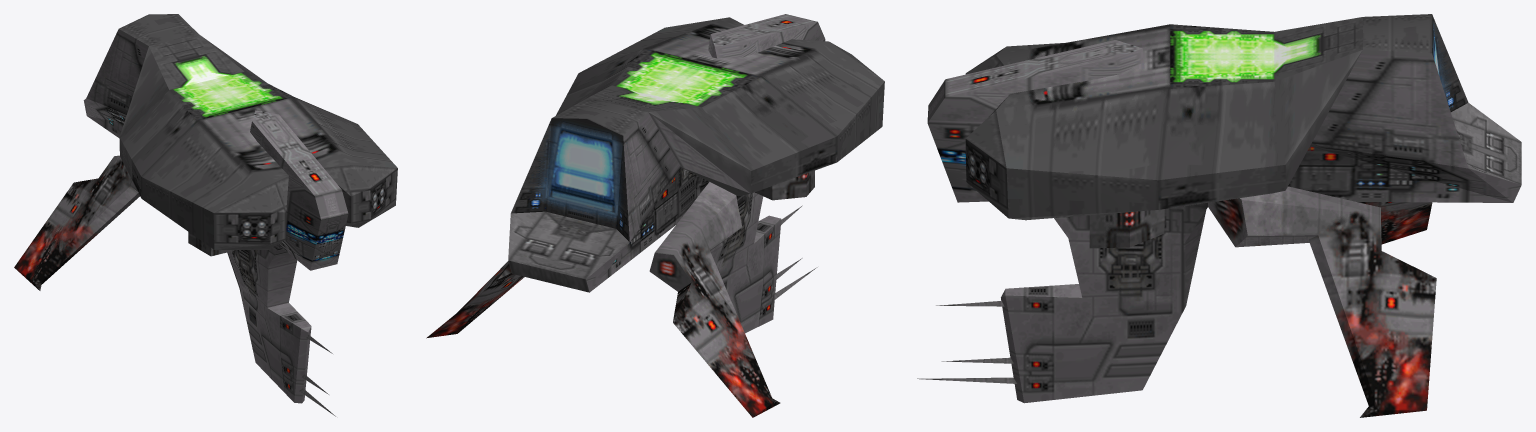
File: hive1.obj
3 views of the same model, side by side, from view 1: azimuth 30°, elevation 25°; view 2: azimuth 150°, elevation 25°; view 3: azimuth 270°, elevation 25° (orthographic). The views are drawn at different scales.
Parts seen in each view (by area): view 1: SHV_belly, SHV_fnt_core_sides, SHV_rudder_sides, SHV_body_face, SHV_fins_sides, SHV_hatch, SHV_body_rear_sides; view 2: SHV_belly, SHV_fins_sides, SHV_thruster_1, SHV_body_rear_sides, SHV_thruster_pan, SHV_hatch, SHV_rudder_sides, SHV_fnt_core_sides; view 3: SHV_belly, SHV_fins_sides, SHV_rudder_sides, SHV_body_rear_sides, SHV_fnt_core_sides, SHV_hatch, SHV_thruster_pan, SHV_body_face, SHV_thruster_1.
Boxes of the visible parts, x1,y1,x2,y2 form: SHV_belly: [119, 14, 397, 249]; SHV_fnt_core_sides: [250, 110, 348, 416]; SHV_rudder_sides: [227, 245, 311, 403]; SHV_body_face: [213, 165, 397, 249]; SHV_fins_sides: [14, 155, 236, 290]; SHV_hatch: [149, 34, 293, 120]; SHV_body_rear_sides: [83, 29, 148, 138]; SHV_belly: [552, 17, 884, 196]; SHV_fins_sides: [426, 170, 814, 417]; SHV_thruster_1: [511, 118, 629, 242]; SHV_body_rear_sides: [586, 112, 708, 292]; SHV_thruster_pan: [508, 211, 629, 292]; SHV_hatch: [589, 48, 760, 111]; SHV_rudder_sides: [710, 192, 781, 333]; SHV_fnt_core_sides: [648, 14, 825, 299]; SHV_belly: [996, 14, 1432, 220]; SHV_fins_sides: [1089, 186, 1436, 417]; SHV_rudder_sides: [1001, 206, 1207, 403]; SHV_body_rear_sides: [1288, 50, 1521, 202]; SHV_fnt_core_sides: [917, 40, 1207, 383]; SHV_hatch: [1170, 17, 1362, 88]; SHV_thruster_pan: [1451, 103, 1521, 184]; SHV_body_face: [965, 48, 1008, 217]; SHV_thruster_1: [1432, 14, 1468, 111].
Size of the model in its own units: 84.17 by 81.5 by 120.
